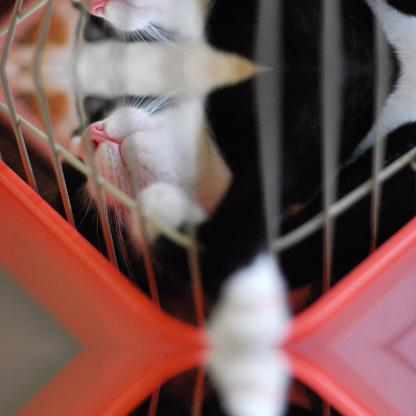Cat: (0, 67, 415, 297), (0, 0, 415, 69)
